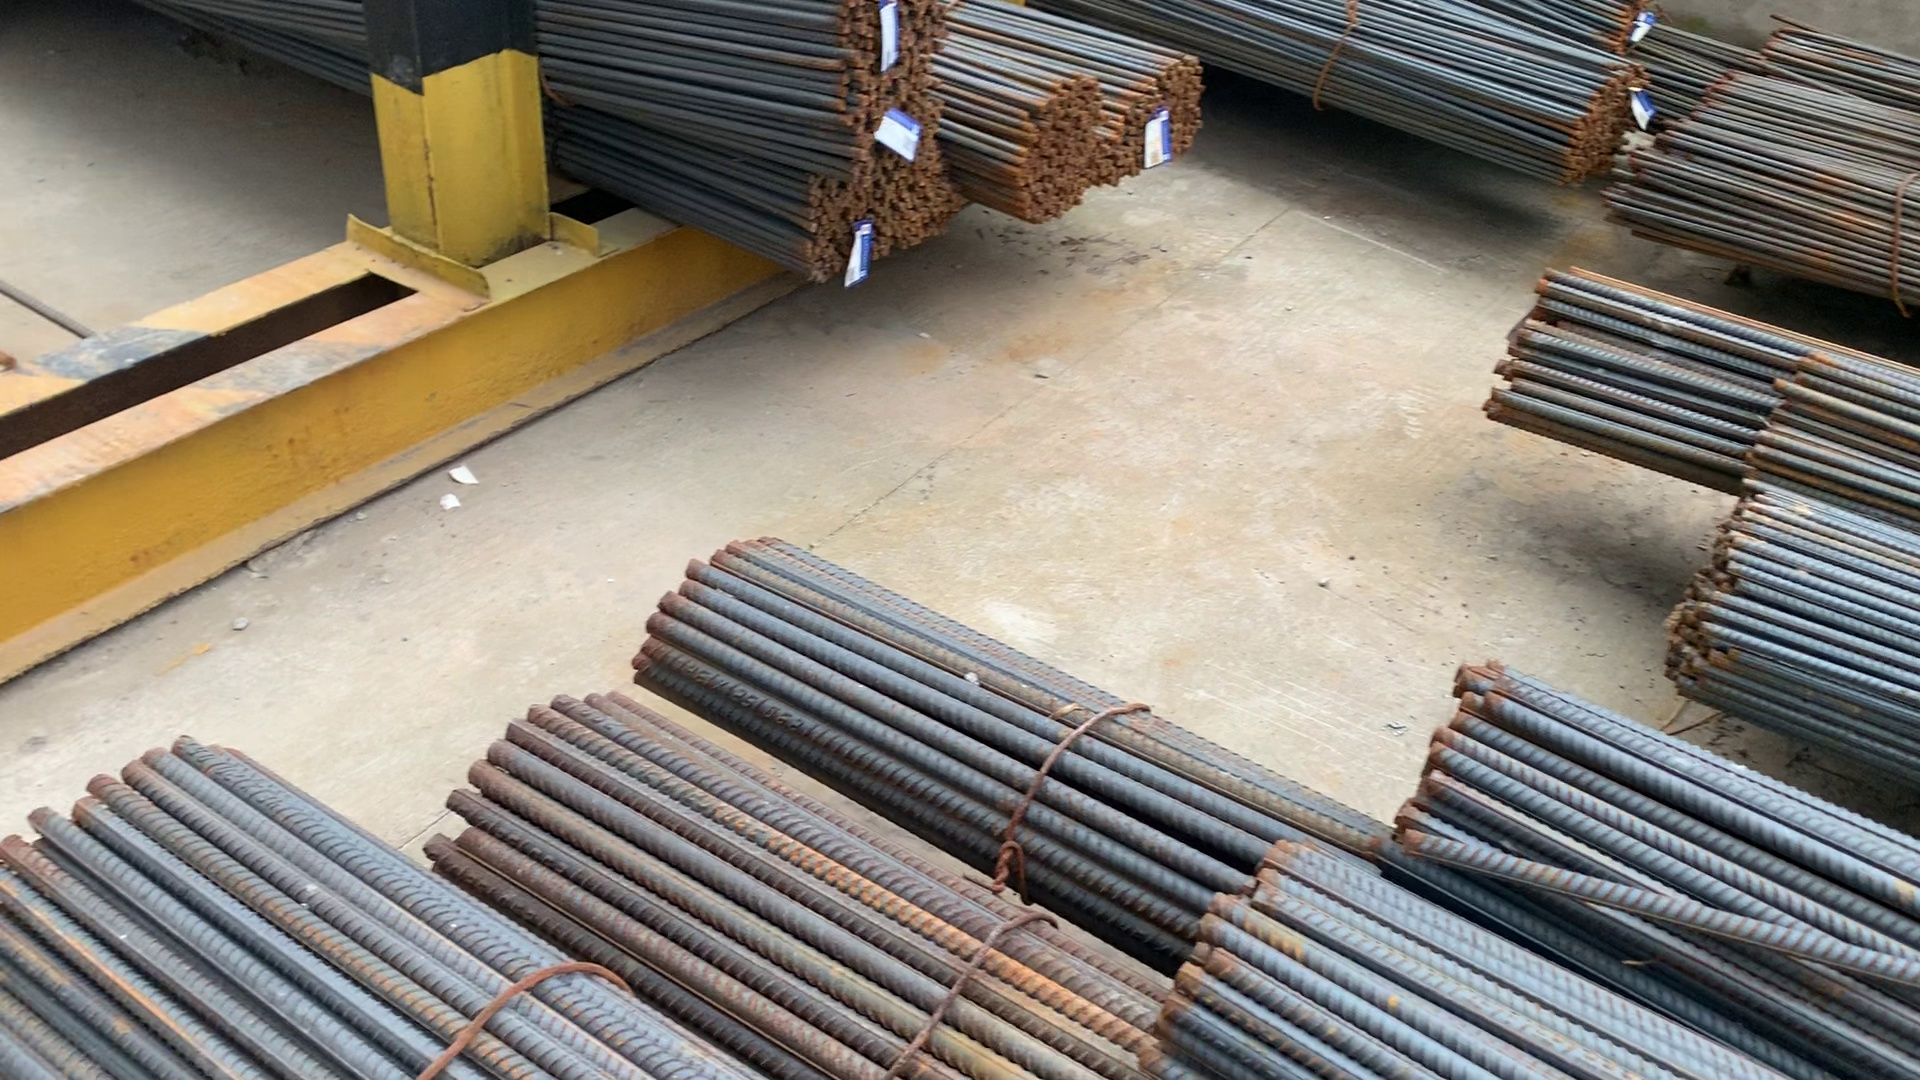rebar: (804, 164, 964, 273), (1006, 88, 1108, 227), (835, 7, 942, 125), (1116, 51, 1208, 175), (1560, 65, 1647, 185)
